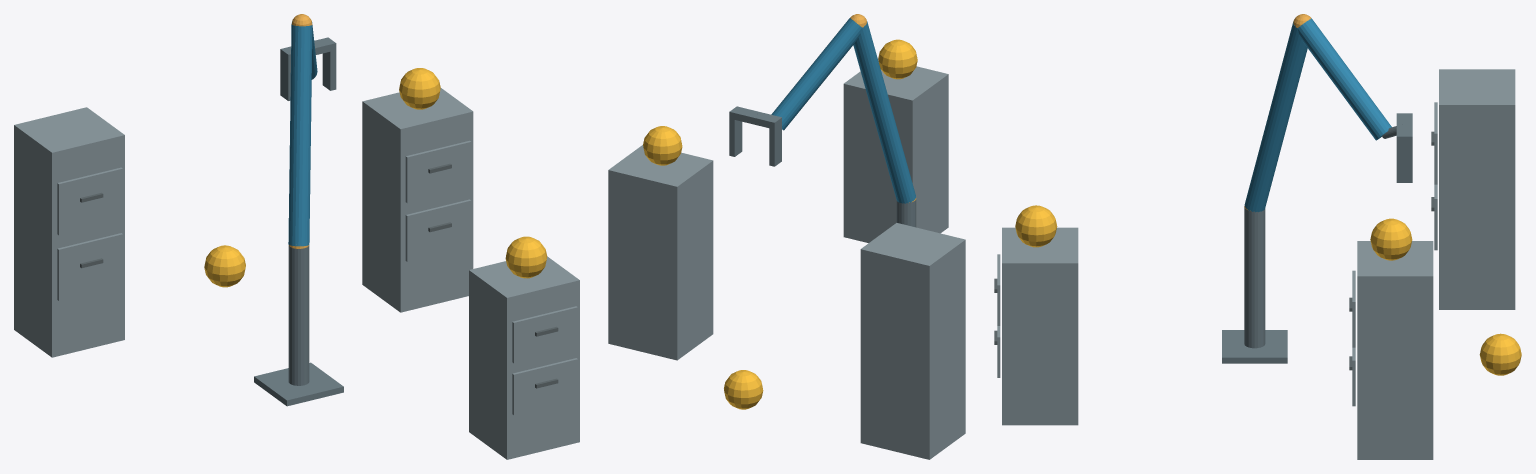
The picture shows the model from 3 angles, left to right: view 1: azimuth 30°, elevation 25°; view 2: azimuth 150°, elevation 25°; view 3: azimuth 270°, elevation 25°; orthographic projection. The views are drawn at different scales.
Parts seen in each view (by area): view 1: cabinet_3 body, cabinet_2 body, cabinet_1 body, moving link 1, cabinet_3 drawer front, cabinet_3 drawer front.001, cabinet_2 drawer front.001, cabinet_2 drawer front, fixed post, cabinet_1 drawer front.001, cabinet_1 drawer front, pedestal (+3 smaller); view 2: cabinet_3 body, cabinet_2 body, cabinet_1 body, moving link 1, moving link 2, released ball_1, released ball_2, ball ball_3, gripper bridge, gripper finger 1, fixed post, gripper finger -1; view 3: cabinet_3 body, cabinet_2 body, cabinet_1 body, moving link 1, fixed post, moving link 2, pedestal, released ball_1, released ball_2, ball ball_3, gripper finger 1.
Part boxes in pixels (x1,y1,x2,y2): cabinet_3 body: (14,107,124,357); cabinet_2 body: (362,88,473,312); cabinet_1 body: (469,256,579,459); moving link 1: (288,24,312,246); cabinet_3 drawer front: (57,233,122,300); cabinet_3 drawer front.001: (57,167,122,235); cabinet_2 drawer front.001: (405,140,471,203); cabinet_2 drawer front: (405,199,471,261); fixed post: (288,245,309,385); cabinet_1 drawer front.001: (512,306,577,363); cabinet_1 drawer front: (512,358,577,414); pedestal: (254,362,343,406); cabinet_3 body: (860,223,965,459); cabinet_2 body: (608,145,713,360); cabinet_1 body: (843,58,948,242); moving link 1: (853,21,915,203); moving link 2: (771,18,861,130); released ball_1: (878,39,917,79); released ball_2: (643,126,682,165); ball ball_3: (724,370,763,409); gripper bridge: (729,106,781,129); gripper finger 1: (729,118,742,156); fixed post: (896,199,916,227); gripper finger -1: (769,124,781,166); cabinet_3 body: (1439,69,1515,309); cabinet_2 body: (1357,241,1433,459); cabinet_1 body: (1002,227,1078,425); moving link 1: (1244,22,1307,212); fixed post: (1244,207,1265,348); moving link 2: (1297,18,1391,140); pedestal: (1222,330,1287,363); released ball_1: (1015,205,1057,247); released ball_2: (1370,218,1412,260); ball ball_3: (1479,333,1521,375); gripper finger 1: (1396,143,1412,182).
Size of the model in its own units: 1.67 by 1.46 by 2.01.
